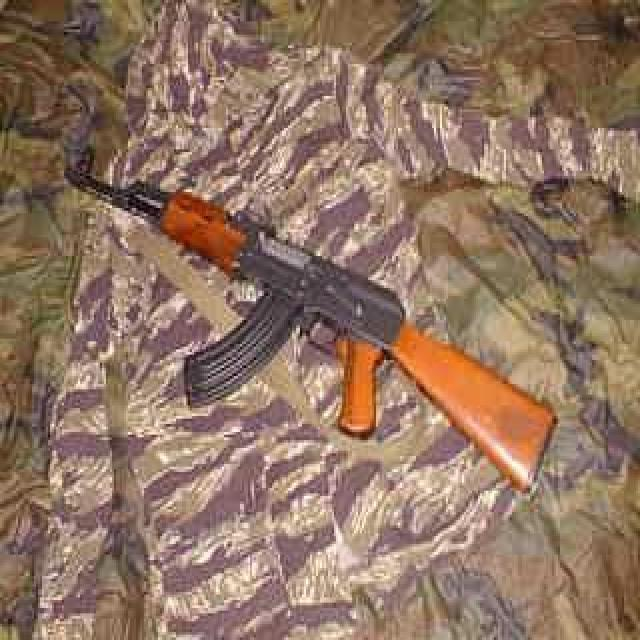Gun: (41, 139, 558, 501)
